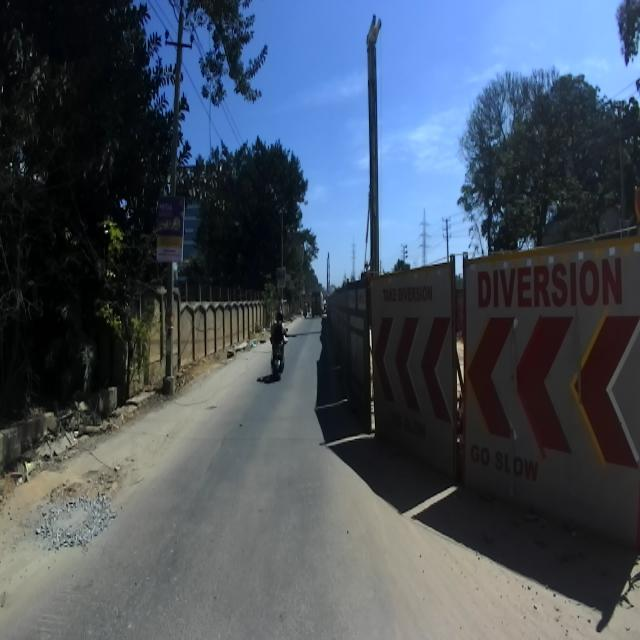barrier ahead at: (463, 253, 640, 545)
